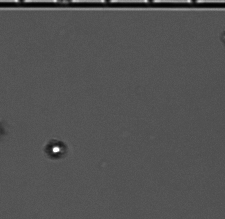Living Cell: (44, 138, 67, 159)
